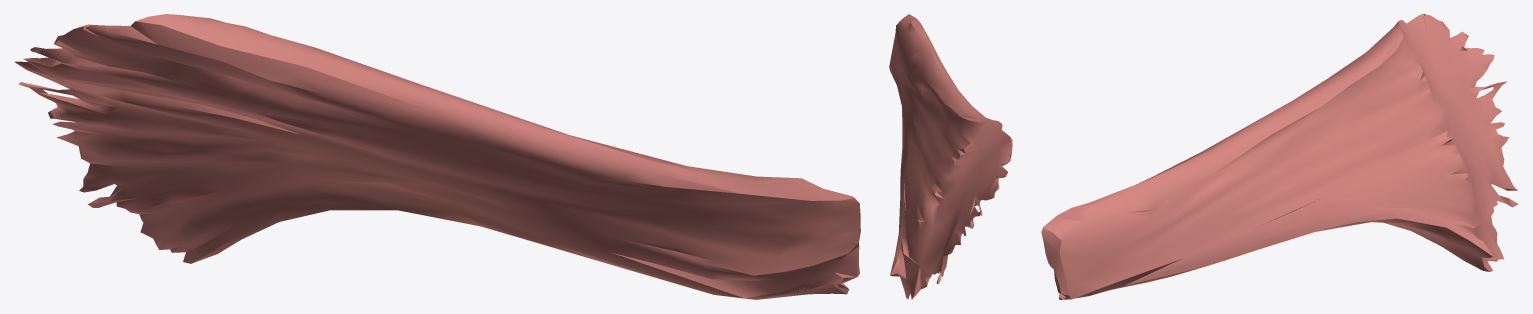
Rendered from fma46839_mm1121m.glb.
The picture shows the model from 3 angles, left to right: view 1: azimuth 30°, elevation 25°; view 2: azimuth 150°, elevation 25°; view 3: azimuth 270°, elevation 25°; orthographic projection. The views are drawn at different scales.
Visible parts, largest first — view 1: FMA46839_MM1121M; view 2: FMA46839_MM1121M; view 3: FMA46839_MM1121M.
Part boxes in pixels (box(x1,y1,x2,y2)): FMA46839_MM1121M: box(14, 14, 860, 299); FMA46839_MM1121M: box(889, 14, 1012, 299); FMA46839_MM1121M: box(1041, 14, 1518, 299).
Bounding box in the file's own units: 0.0288 × 0.0169 × 0.0339.
